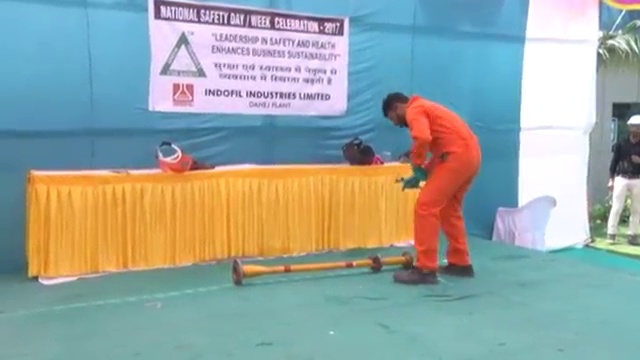helmet: (626, 113, 640, 127)
helmet_off: (382, 91, 410, 130)
helmet_on: (625, 113, 640, 140)
person: (375, 88, 476, 283), (604, 111, 640, 247)
